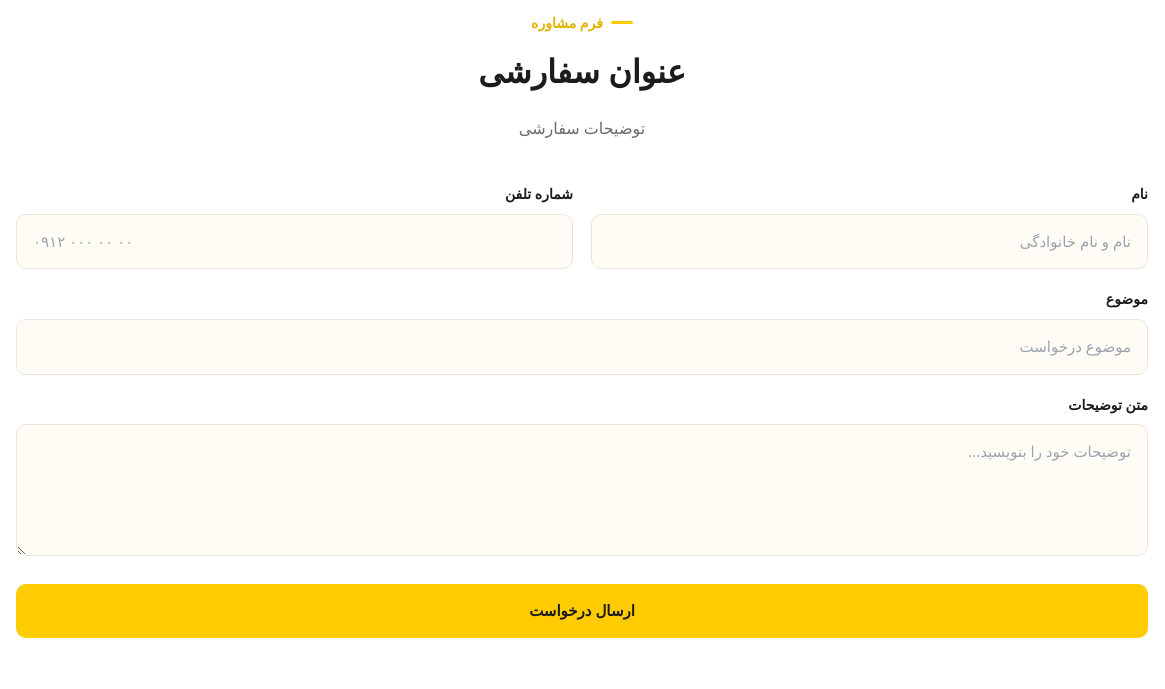
Test: ConsultationForm › should submit form and show success message
Check: the heading "عنوان سفارشی" is shown, box [478, 49, 686, 92]
# Fill form
Type "علی" into the field labelled "نام".
click(870, 242); type("علی")  # box [591, 214, 1148, 269]
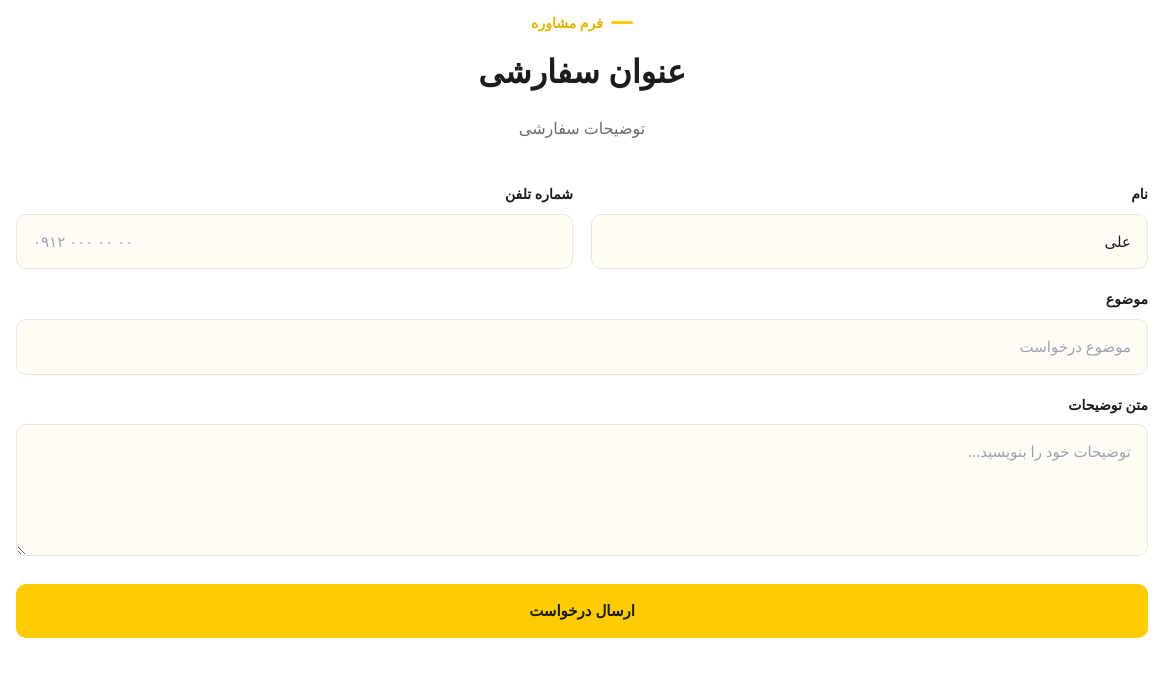
Type "09121234567" into the field labelled "شماره تلفن".
click(294, 242); type("09121234567")  # box [16, 214, 573, 269]
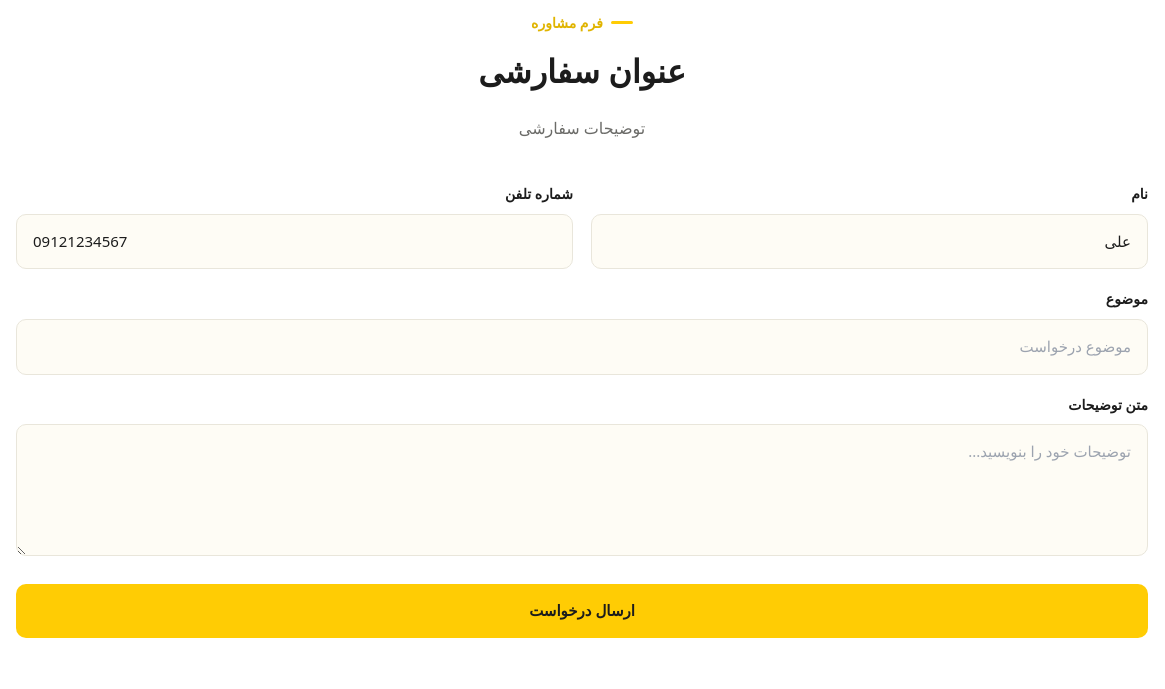
Click the button "ارسال درخواست".
click(582, 611)  # box [16, 584, 1148, 638]
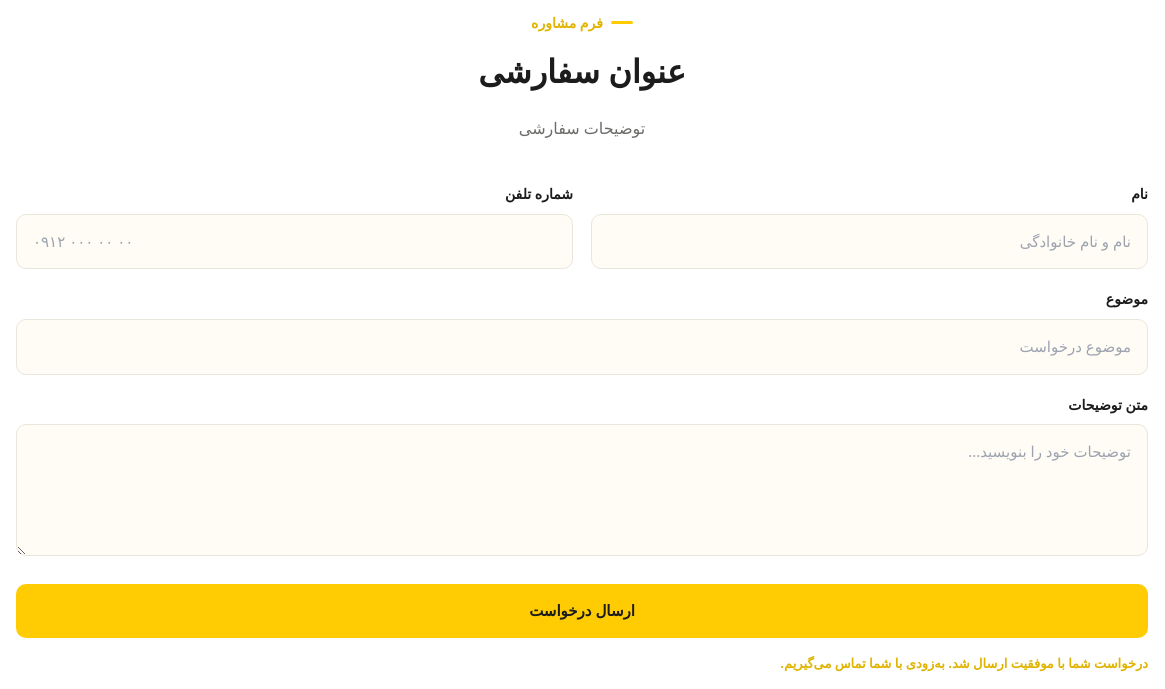
Check: the text "درخواست شما با موفقیت ارسال شد. به‌زودی با شما تماس می‌گیریم." is shown, box [780, 654, 1148, 672]
Check: the field labelled "نام" is empty, box [591, 214, 1148, 269]
Check: the field labelled "شماره تلفن" is empty, box [16, 214, 573, 269]
